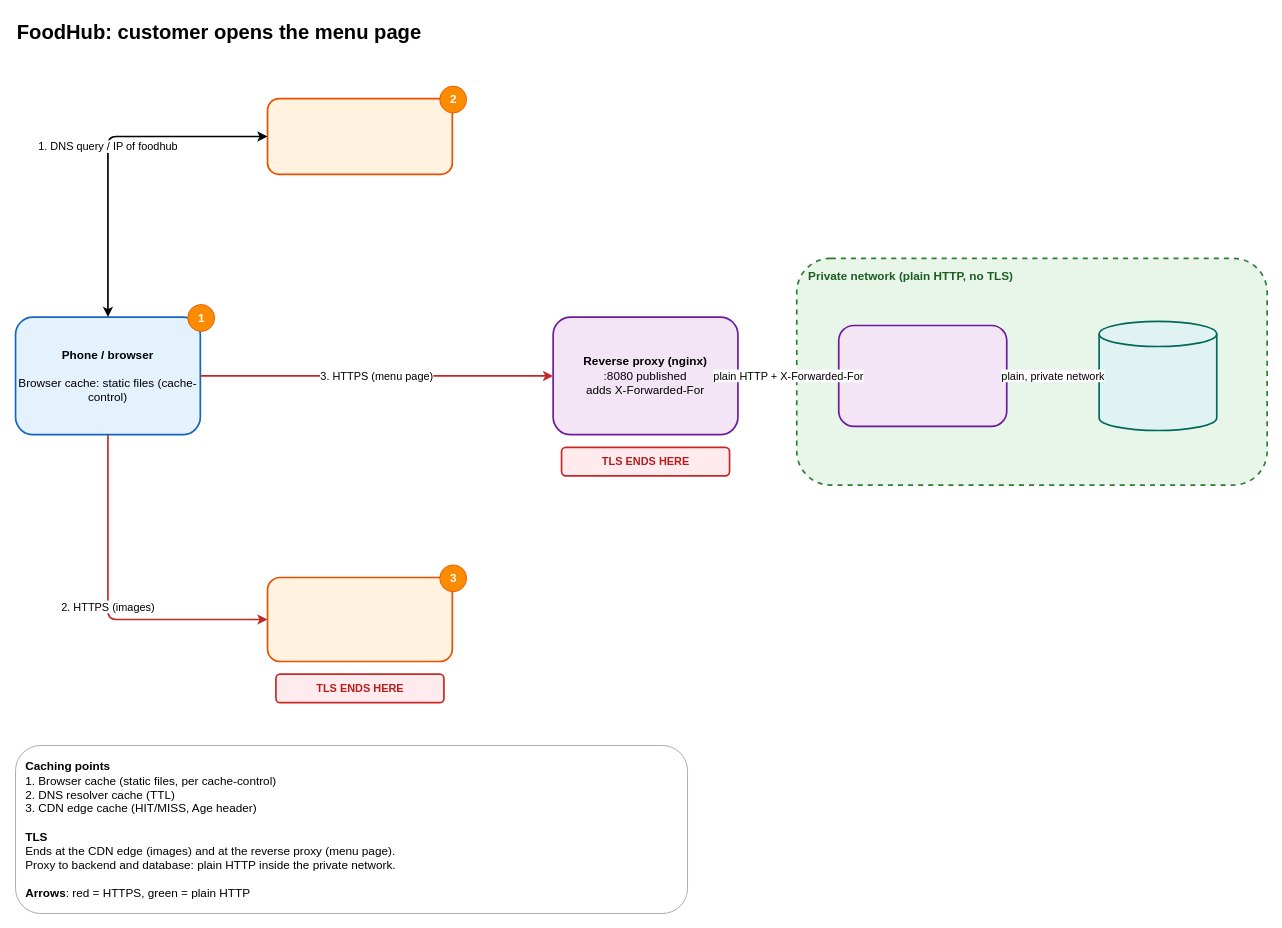
Image size: 1282x928. Some labels were removed from this diagram. Each missing label, with the centre of its shape:
"Backend app Node :3000" goes at point 922,375.
"CDN edge images: HIT / MISS (Age header)" goes at point 359,619.
"Database" goes at point 1157,375.
"DNS resolver Caches answers for the TTL" goes at point 359,136.
